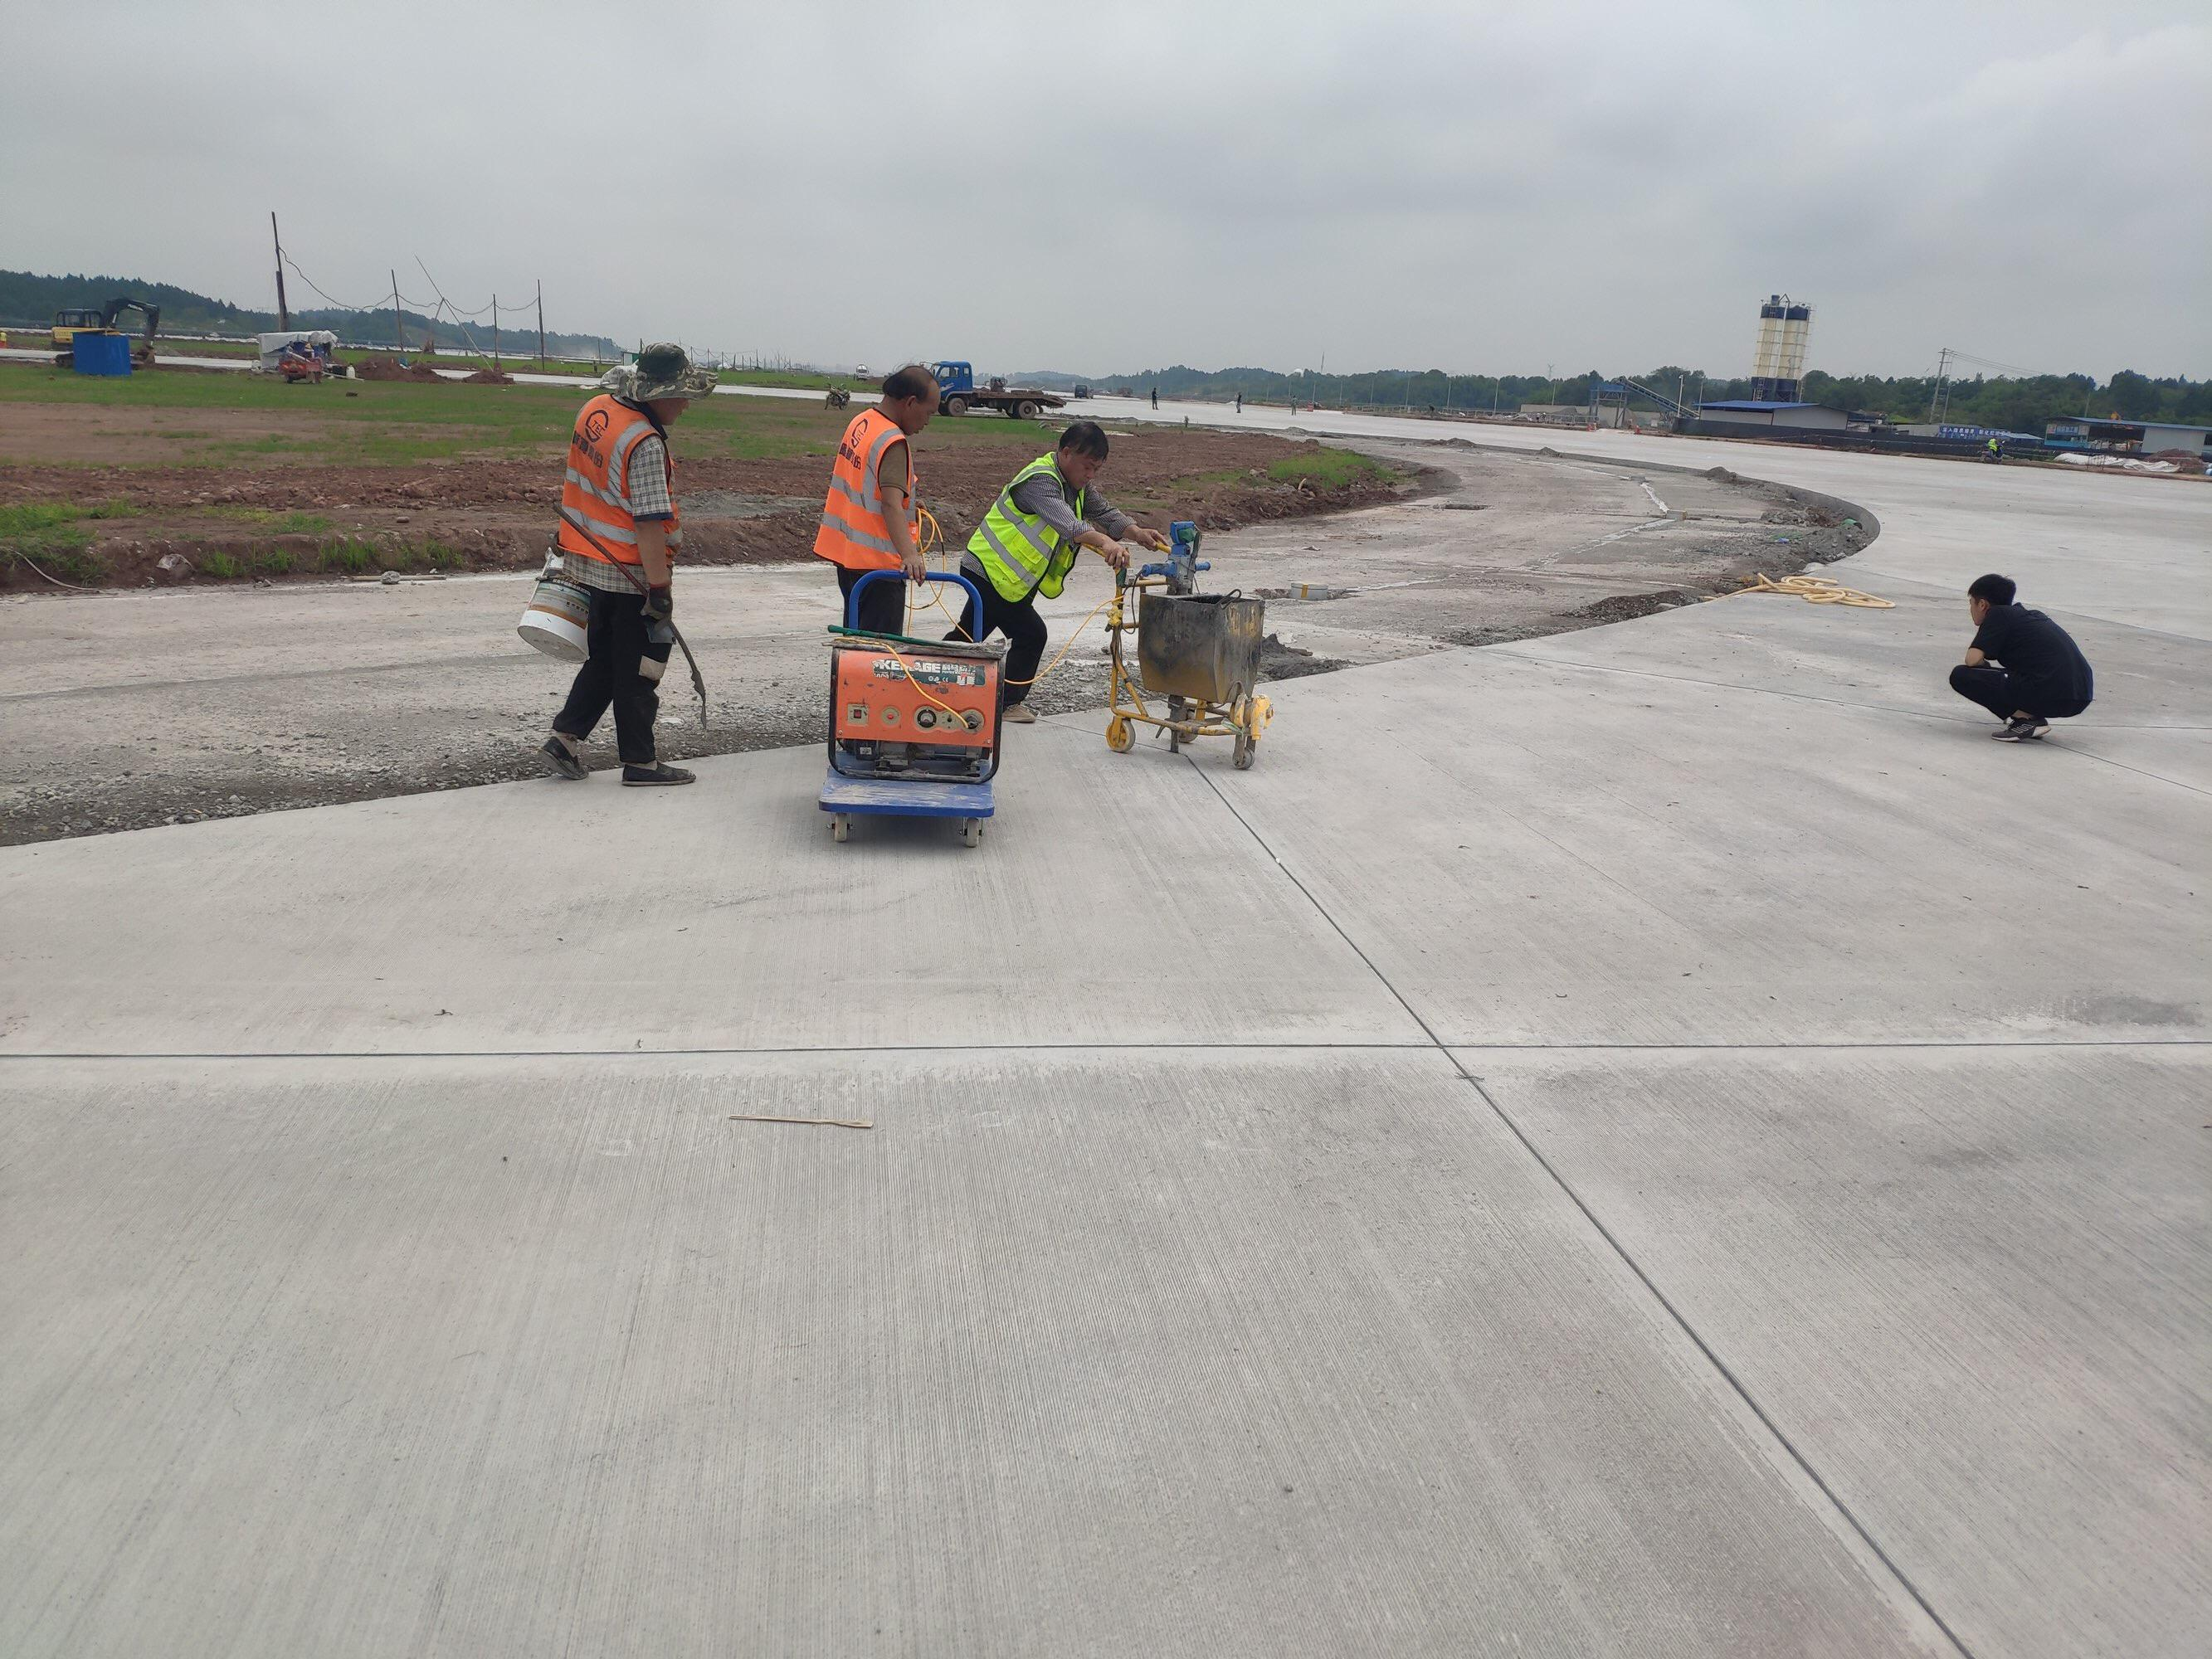head: (626, 341, 694, 426), (872, 362, 947, 439), (1052, 419, 1109, 491), (1966, 570, 2015, 621)
ordinary_clothes: (1970, 602, 2098, 705)
person: (535, 339, 721, 788), (941, 416, 1170, 727), (804, 364, 947, 639), (1944, 570, 2099, 745)
reflective_vest: (553, 391, 688, 568), (806, 404, 923, 573), (957, 448, 1084, 604)
